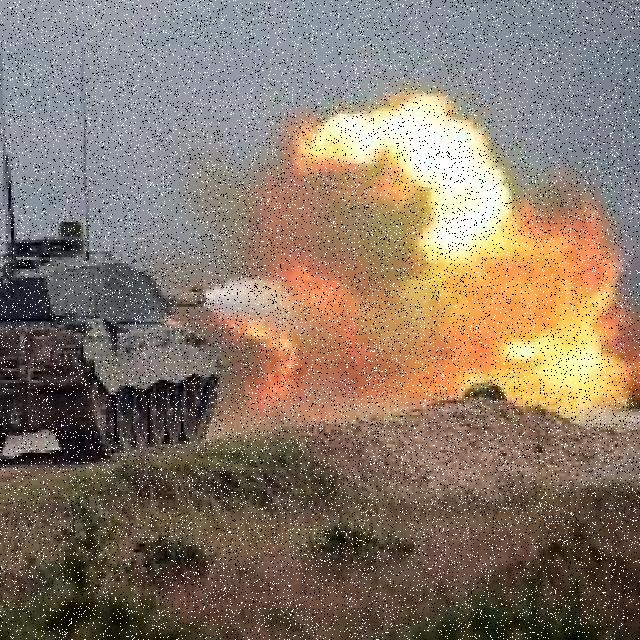MIL_MBT: (11, 88, 292, 508)
